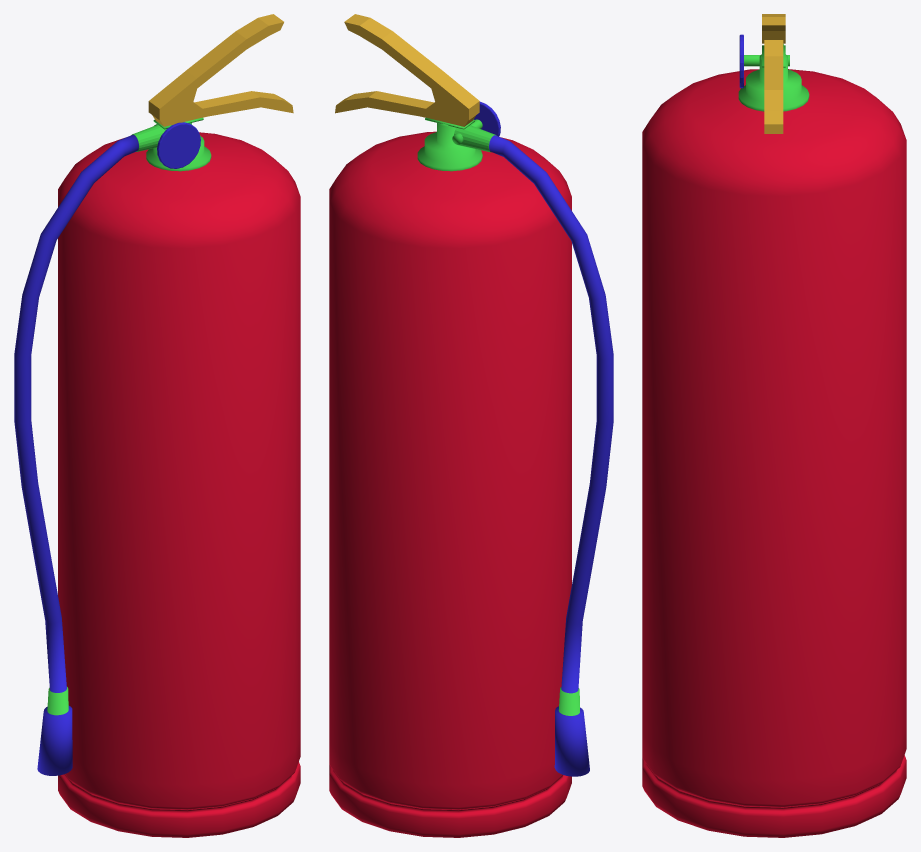
Rendered from Extintor.fbx.
3 renders of one model, left to right at view 1: azimuth 30°, elevation 25°; view 2: azimuth 150°, elevation 25°; view 3: azimuth 270°, elevation 25°, orthographic. The views are drawn at different scales.
Visible parts, largest first — view 1: Extintor; view 2: Extintor; view 3: Extintor.
Part boxes in pixels (box(x1,y1,x2,y2)): Extintor: box(14, 14, 300, 837); Extintor: box(329, 14, 613, 837); Extintor: box(642, 14, 906, 837).
Bounding box in the file's own units: 162 × 423 × 125.
